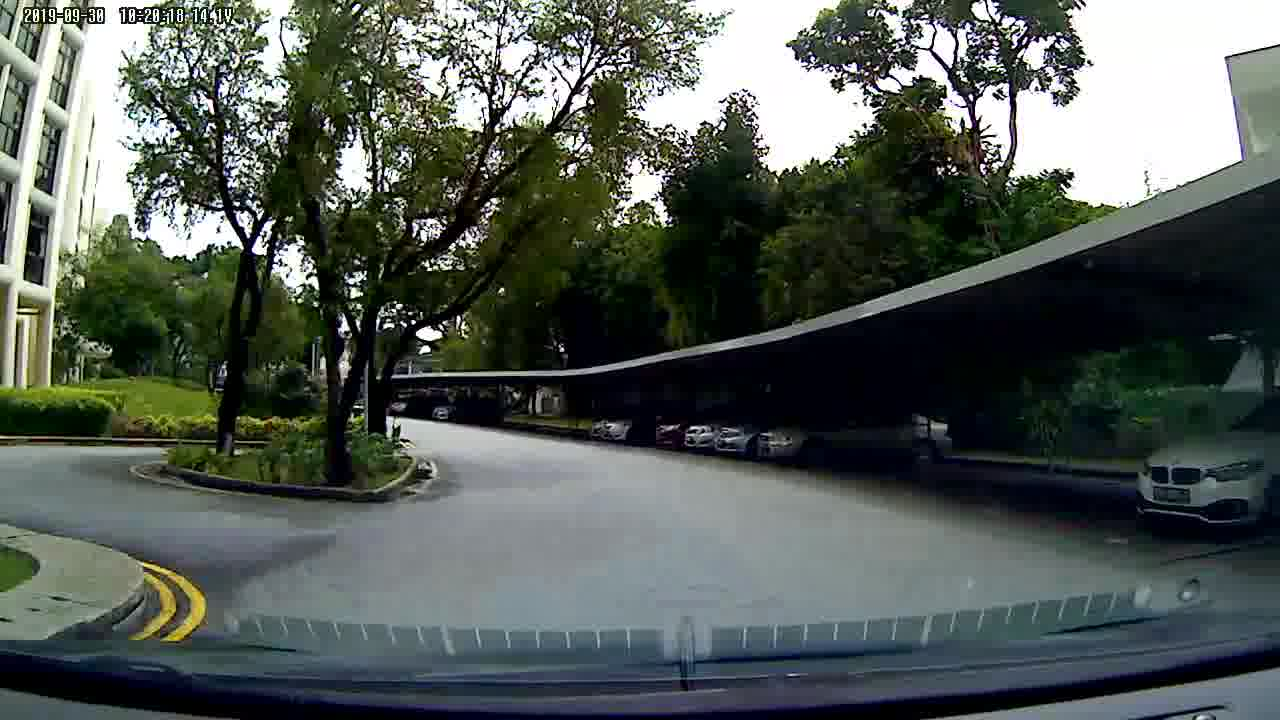car: (577, 403, 956, 473), (1125, 390, 1280, 539)
